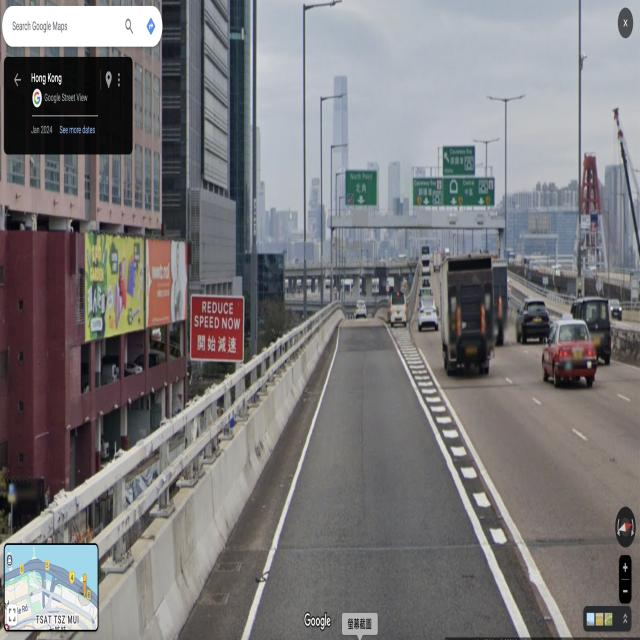Direction-Sign: (444, 180, 494, 205), (346, 172, 376, 207), (443, 146, 475, 177), (414, 180, 442, 203)
Warning-Sign: (192, 295, 245, 362)
